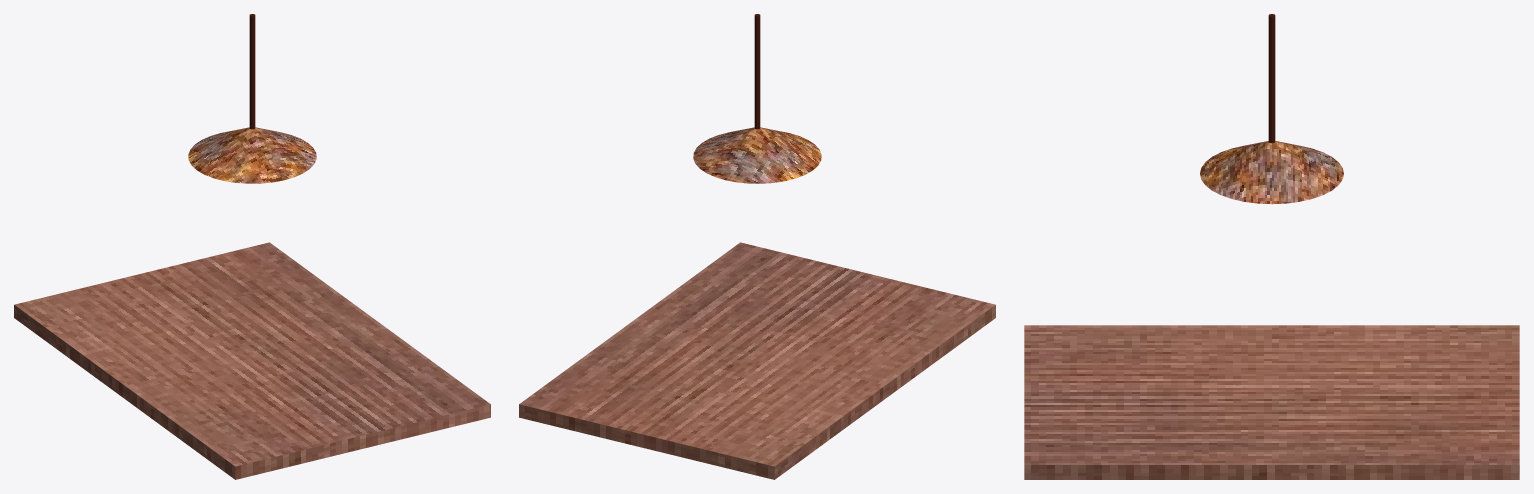
The model's file is Garage.glb.
3 renders of one model, left to right at view 1: azimuth 30°, elevation 25°; view 2: azimuth 150°, elevation 25°; view 3: azimuth 270°, elevation 25°, orthographic. The views are drawn at different scales.
Parts seen in each view (by area): view 1: Cube, Циліндр; view 2: Cube, Циліндр; view 3: Cube, Циліндр.
Part boxes in pixels (bbox=[...]): Cube: bbox=[14, 242, 490, 479]; Циліндр: bbox=[188, 14, 316, 183]; Cube: bbox=[519, 242, 995, 479]; Циліндр: bbox=[693, 14, 821, 183]; Cube: bbox=[1024, 325, 1519, 479]; Циліндр: bbox=[1200, 14, 1343, 204].
Size of the model in its own units: 2 by 2.64 by 3.
2 materials, 2 textured.
